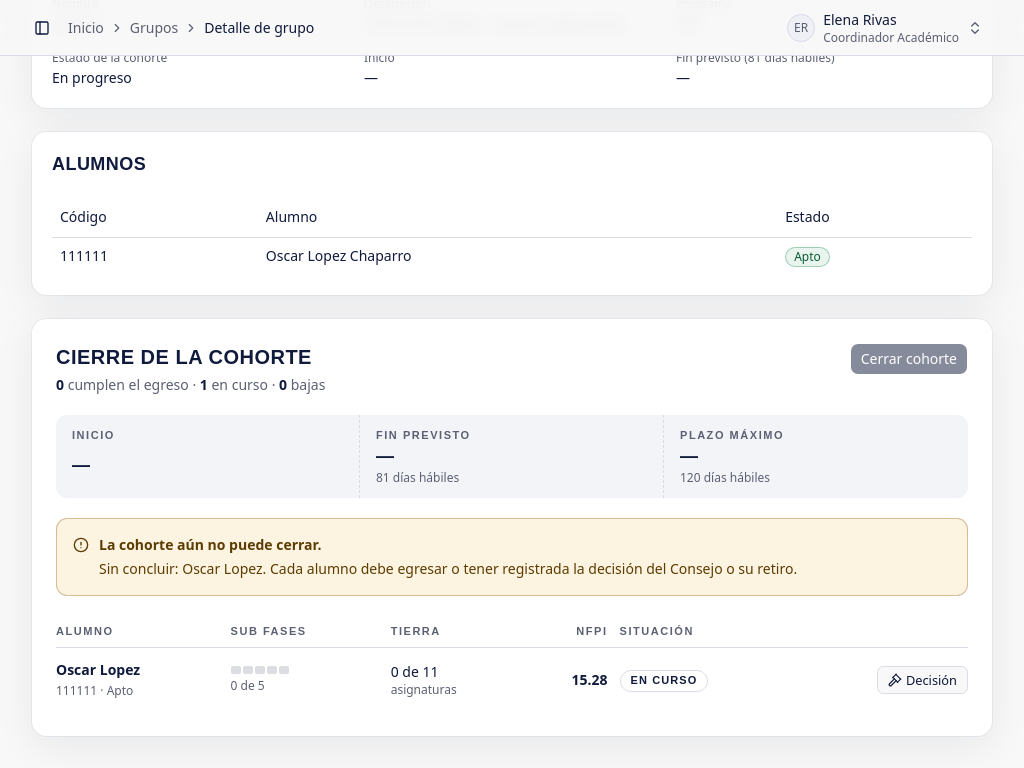
Detalle de grupo › el Coordinador registra un retiro y el alumno queda con su situación final
(page scrolled)
Click the button with aria-label "Registrar decisión de Oscar Lopez". click: (922, 680)
box: [877,666,968,694]
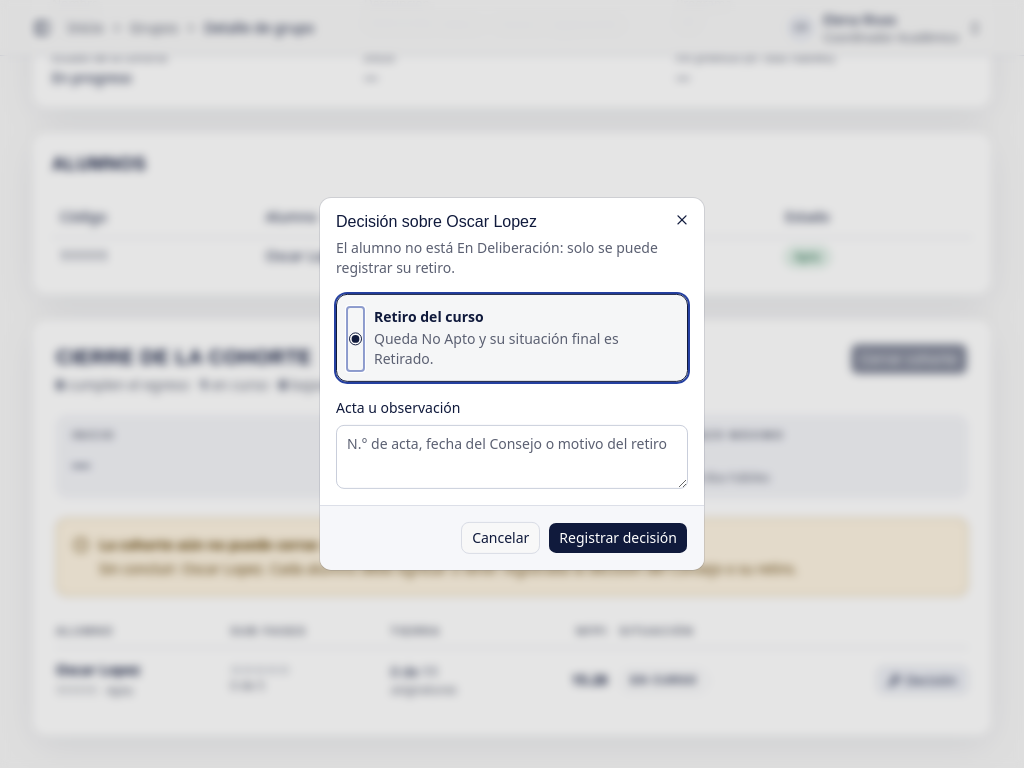
Now the text "solo se puede registrar su retiro" is shown, box [336,238,658,277]
Type "Retiro voluntario" into the text box labelled "Acta u observación". click: (512, 457)
box: [336,425,688,489]
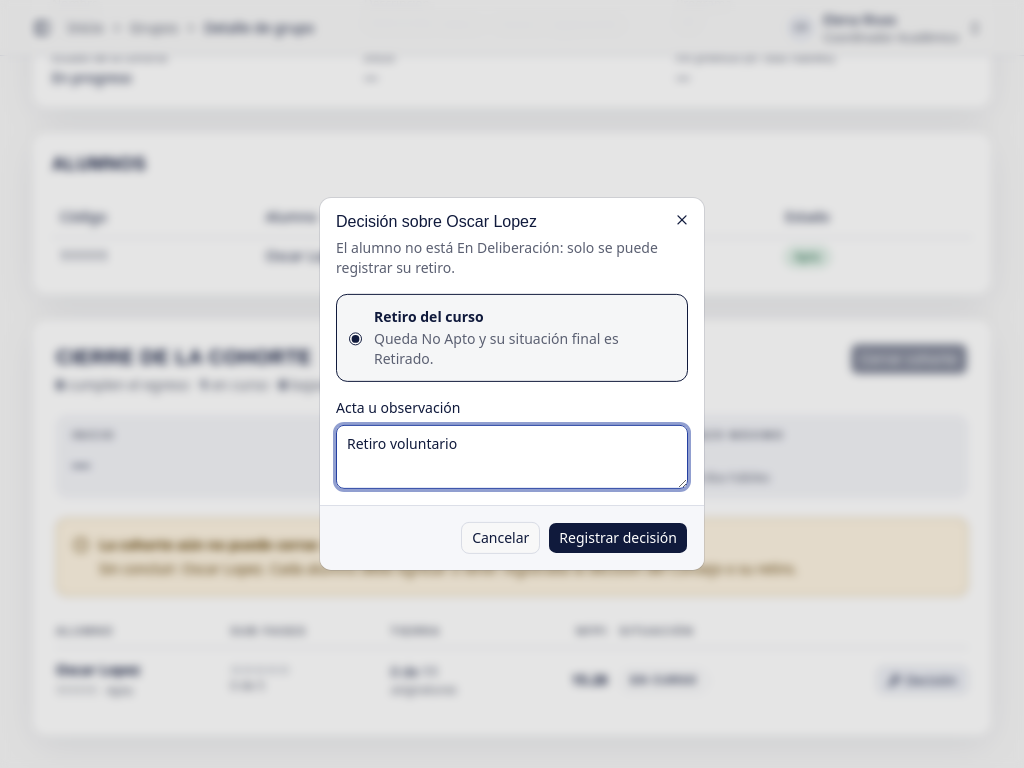
Click the button "Registrar decisión". click: (618, 538)
box: [548,522,688,554]
(page scrolled)
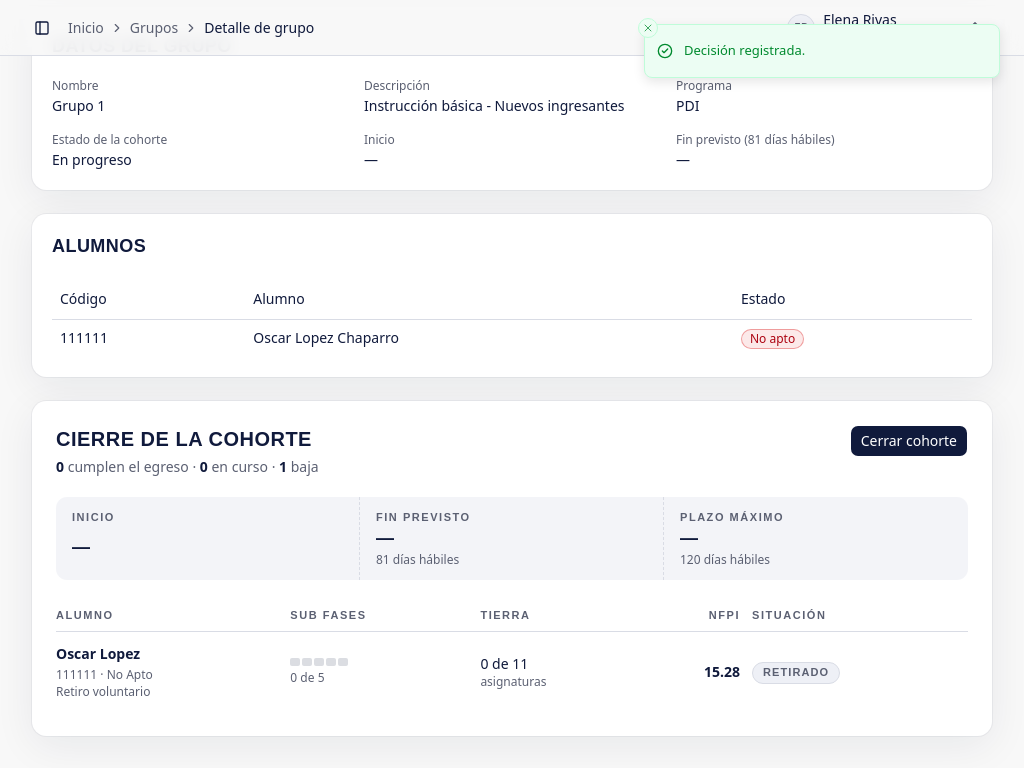
Now the text "Decisión registrada." is shown, box [684,41,805,60]
Now the text "Retirado" is shown, box [752,662,840,684]
Now the text "Retiro voluntario" is shown, box [56,683,150,700]
